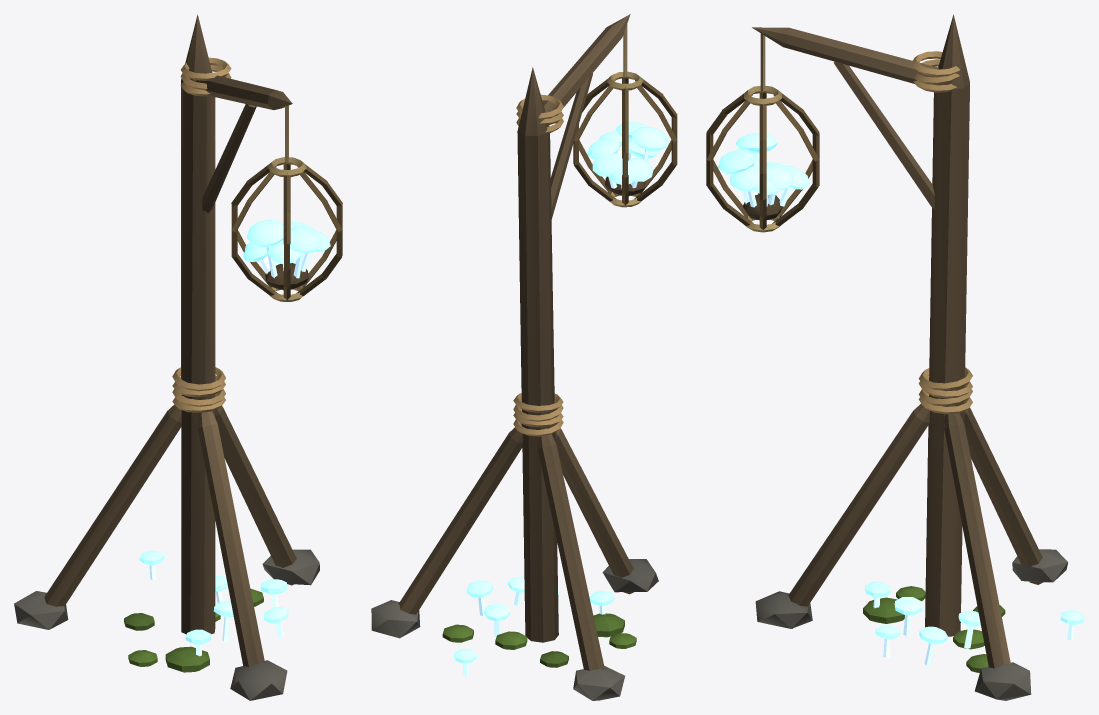
File: glow_lantern.glb
3 renders of one model, left to right at view 1: azimuth 30°, elevation 25°; view 2: azimuth 150°, elevation 25°; view 3: azimuth 270°, elevation 25°, orthographic. The views are drawn at different scales.
Visible parts, largest first — view 1: Body.001, Orb; view 2: Body.001, Orb; view 3: Body.001, Orb.
Boxes of the visible parts, left/top/right/bottom form: Body.001: left=14, top=14, right=319, bottom=700; Orb: left=231, top=105, right=342, bottom=301; Body.001: left=371, top=14, right=658, bottom=700; Orb: left=573, top=24, right=677, bottom=207; Body.001: left=752, top=14, right=1084, bottom=700; Orb: left=706, top=33, right=819, bottom=232.
Size of the model in its own units: 1.13 by 2.38 by 1.3.
